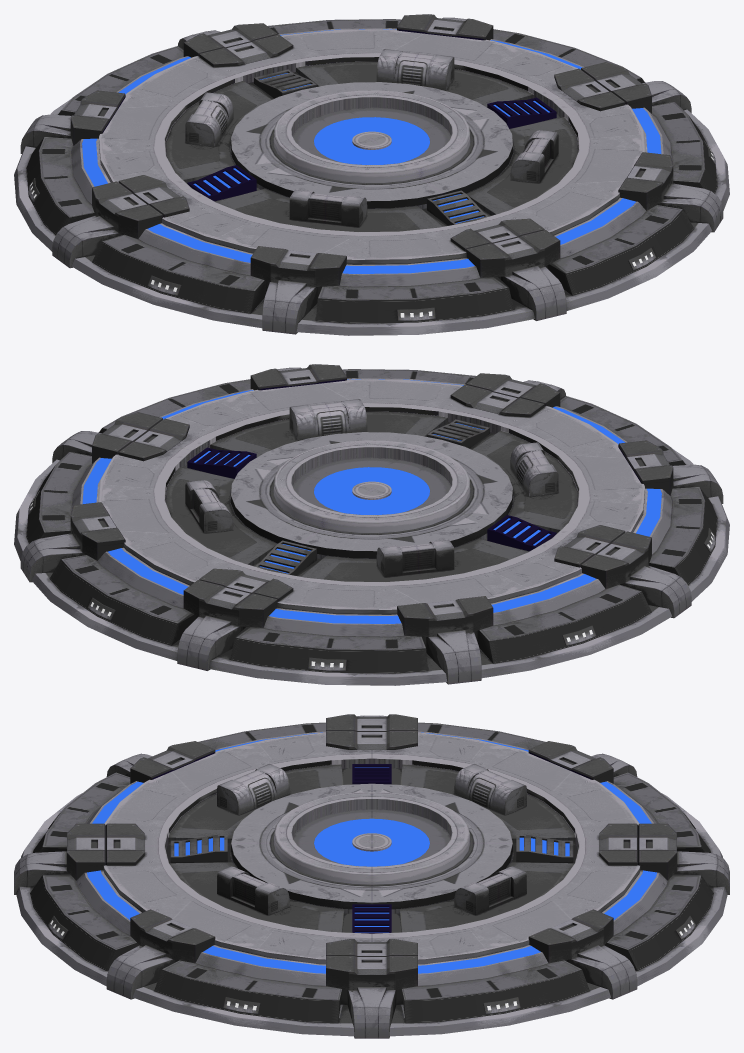
The model's file is 5cb96978-ffa1-4e0d-9552-475a8dbbbb8f.glb.
The picture shows the model from 3 angles, top to bottom: view 1: azimuth 30°, elevation 25°; view 2: azimuth 150°, elevation 25°; view 3: azimuth 270°, elevation 25°; orthographic projection.
Visible parts, largest first — view 1: Cubo.023; view 2: Cubo.023; view 3: Cubo.023.
Boxes of the visible parts, x1,y1,x2,y2 form: Cubo.023: [14, 14, 729, 335]; Cubo.023: [14, 364, 729, 685]; Cubo.023: [14, 714, 729, 1038].
Size of what is drawn, in the model's own units: 7.86 by 0.715 by 7.86.
Materials: 2 (2 with a texture image).
